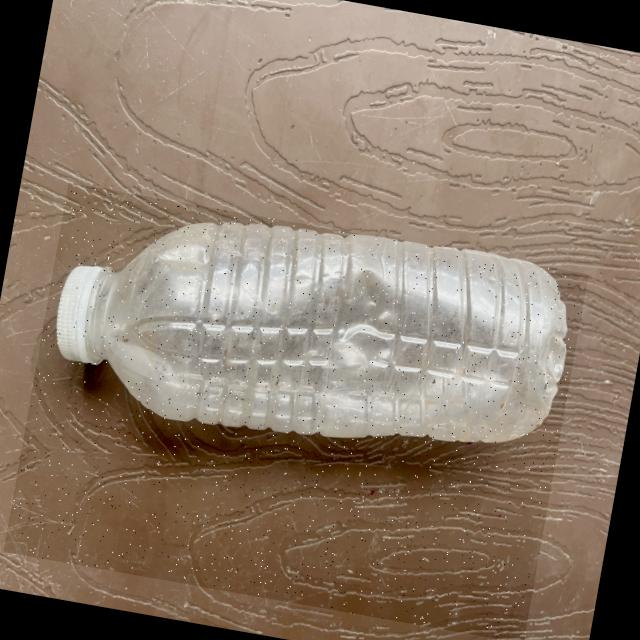REJECT: (2, 181, 587, 640)
